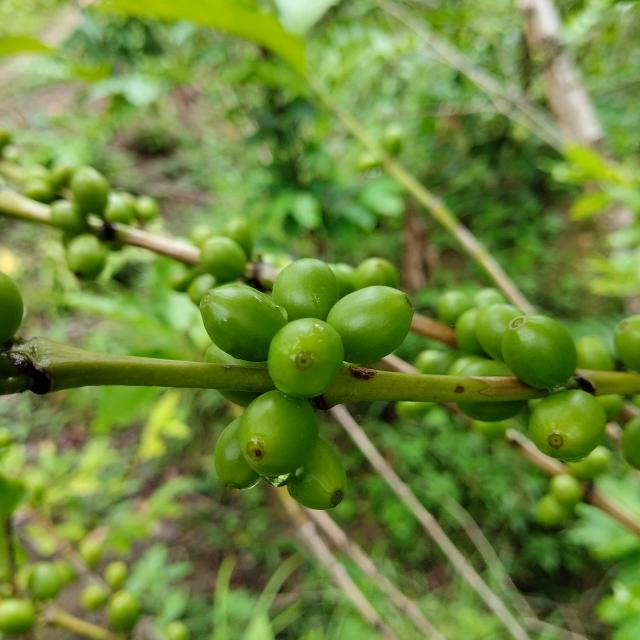green: (238, 390, 319, 477), (199, 283, 287, 362), (327, 285, 414, 364), (327, 285, 414, 364), (268, 318, 344, 399), (502, 315, 578, 389), (530, 390, 607, 462), (530, 390, 607, 462), (288, 438, 347, 511), (272, 259, 340, 321), (214, 416, 260, 490), (476, 304, 525, 361), (0, 272, 22, 345), (457, 401, 527, 422), (457, 401, 527, 422), (458, 401, 527, 422), (460, 360, 514, 377), (218, 390, 261, 408)
